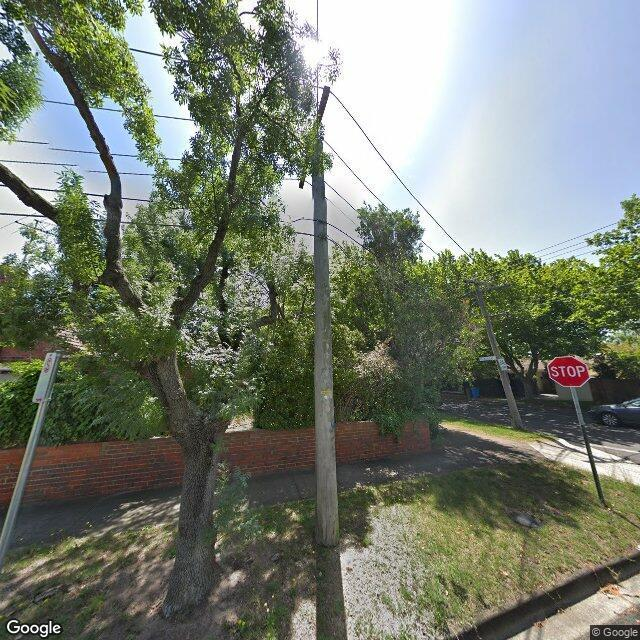crossarm: (299, 86, 330, 189), (463, 280, 488, 286)
timber-pole: (312, 122, 340, 548), (476, 284, 524, 430)
